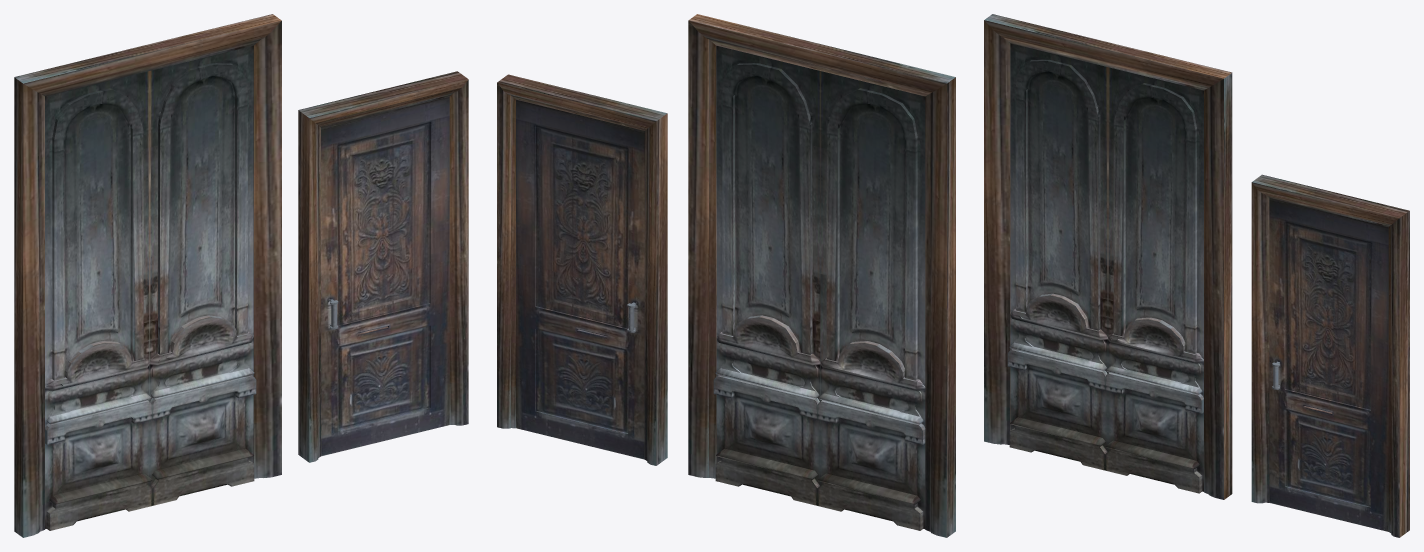
The model's file is Old_doors 1.fbx.
3 views of the same model, side by side, from view 1: azimuth 30°, elevation 25°; view 2: azimuth 150°, elevation 25°; view 3: azimuth 330°, elevation 25° (orthographic). The views are drawn at different scales.
Parts seen in each view (by area): view 1: Door_r, Door_l, Door, Door_frame_1, Door_frame; view 2: Door_r, Door_l, Door, Door_frame_1, Door_frame; view 3: Door_r, Door_l, Door, Door_frame_1, Door_frame.
Boxes of the visible parts, bbox=[...] form: Door_r: bbox=[45, 71, 152, 530]; Door_l: bbox=[149, 45, 256, 505]; Door: bbox=[321, 96, 449, 456]; Door_frame_1: bbox=[14, 14, 281, 537]; Door_frame: bbox=[298, 71, 468, 462]; Door_r: bbox=[817, 71, 925, 530]; Door_l: bbox=[713, 46, 820, 505]; Door: bbox=[516, 99, 644, 459]; Door_frame_1: bbox=[688, 14, 955, 537]; Door_frame: bbox=[497, 74, 667, 465]; Door_r: bbox=[1007, 43, 1107, 470]; Door_l: bbox=[1105, 67, 1203, 493]; Door: bbox=[1269, 198, 1388, 531]; Door_frame_1: bbox=[984, 14, 1232, 499]; Door_frame: bbox=[1251, 174, 1409, 537].
Bounding box in the file's own units: 2.76 × 2.69 × 0.1628.
